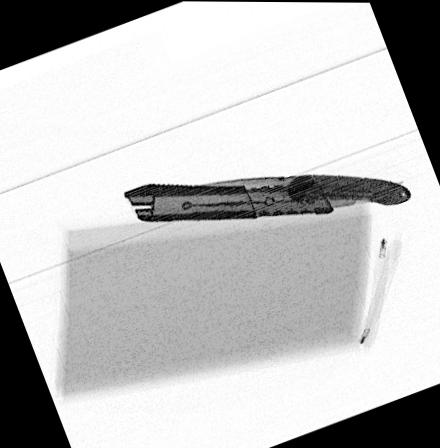Knife: (122, 180, 359, 221), (176, 173, 411, 204)
